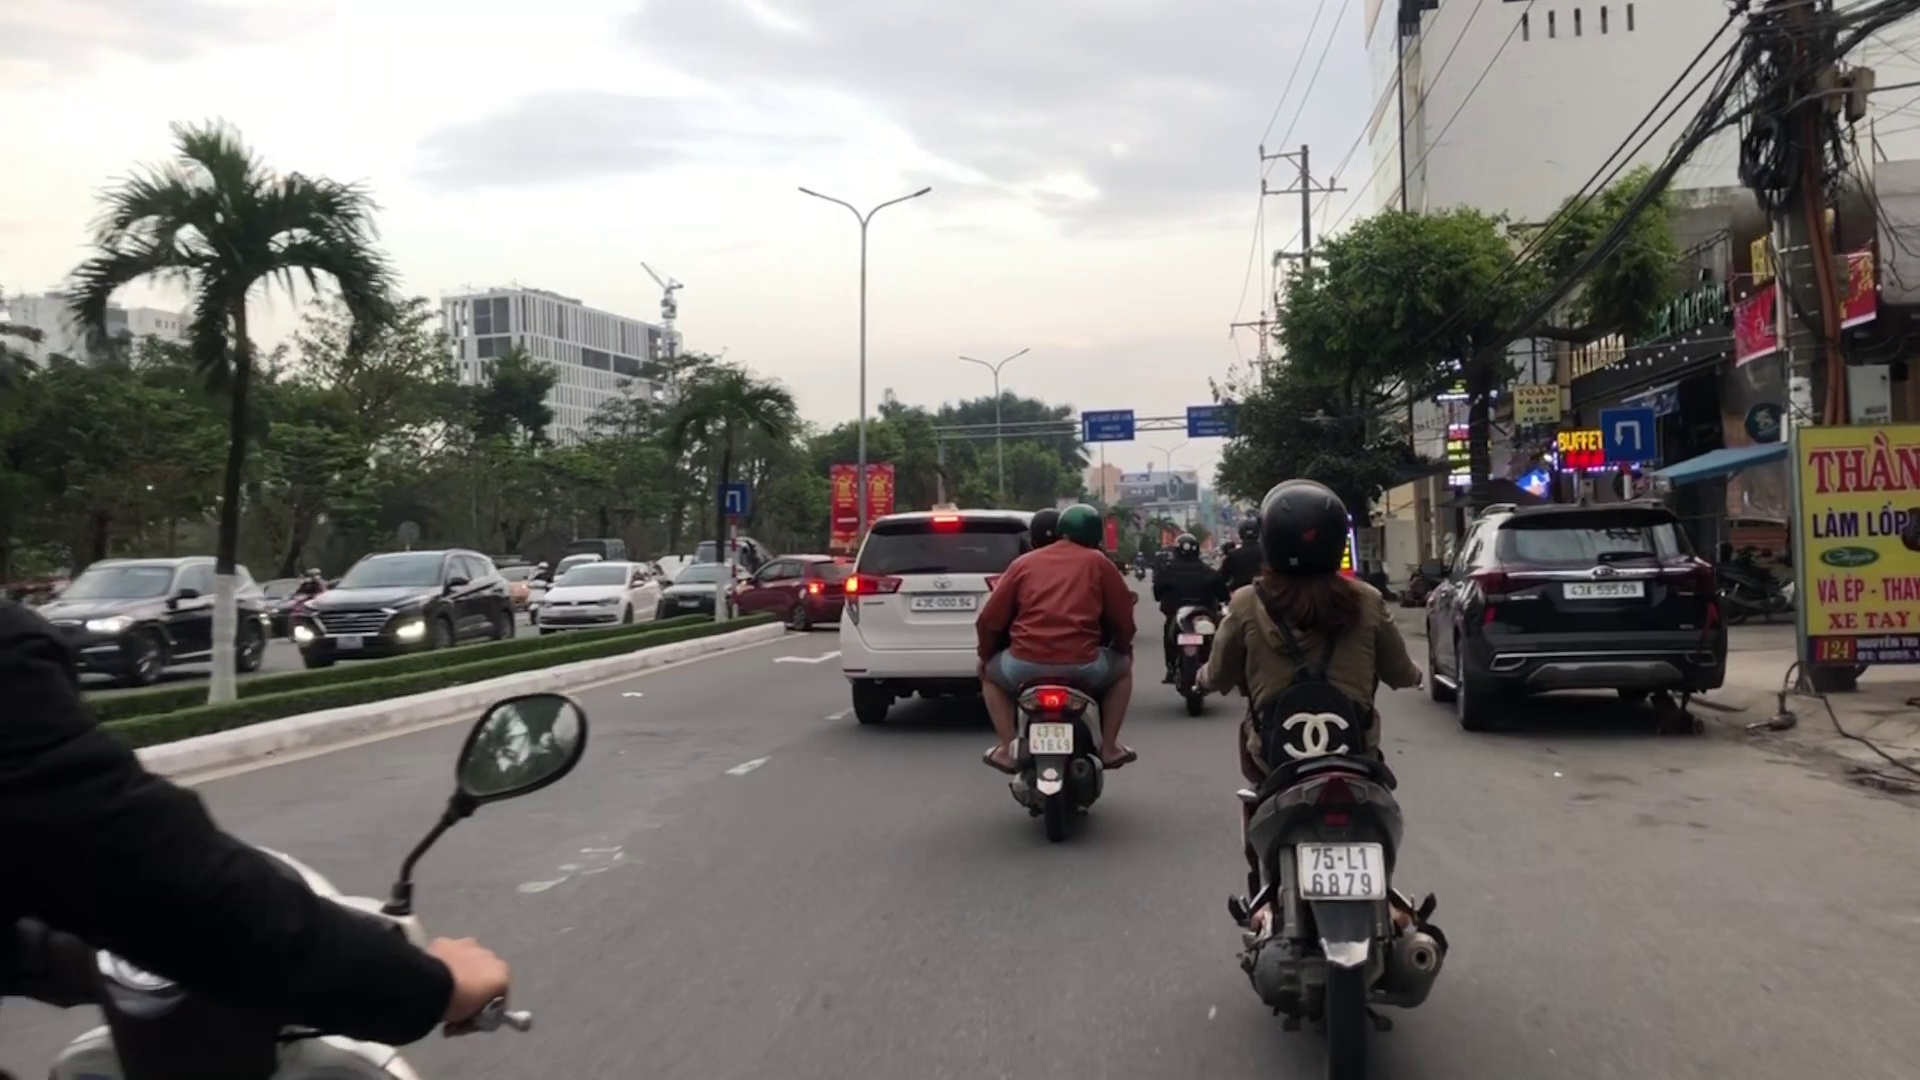Bien khac: (1600, 409, 1651, 462), (717, 487, 745, 516)
